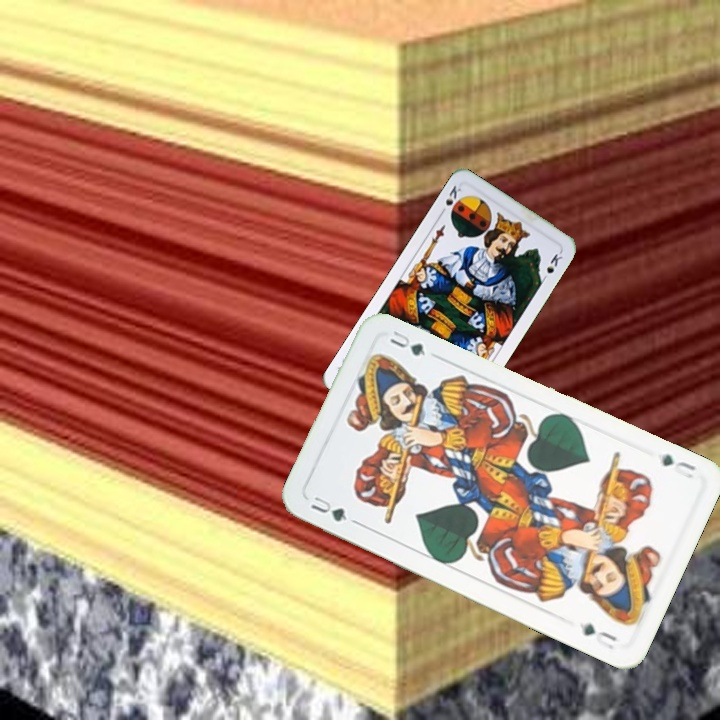GU: (306, 492, 350, 525), (657, 450, 699, 481)
SK: (436, 181, 465, 218)
